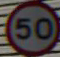Speed limit: (2, 1, 56, 51)
